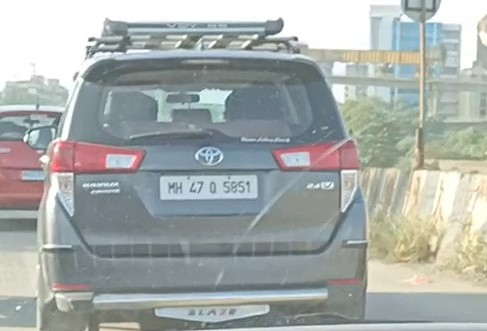MH4705851: (159, 173, 257, 198)
